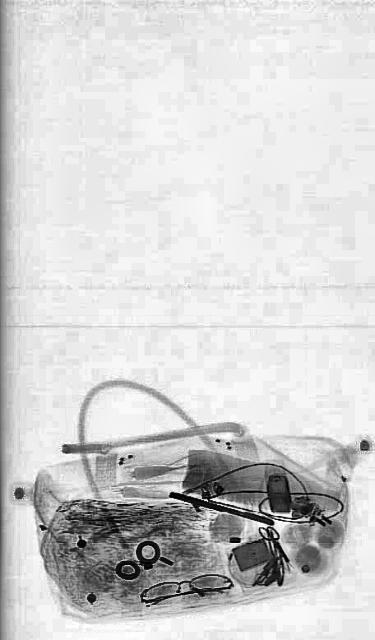Scissors: (256, 514, 292, 570)
